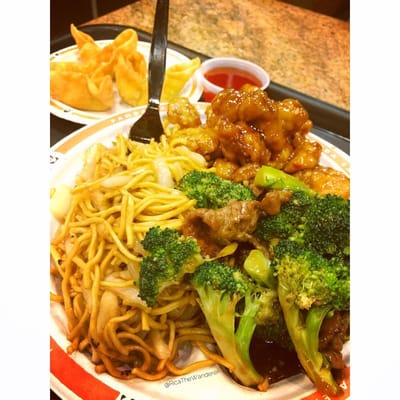curry: (263, 189, 350, 397), (190, 261, 276, 391), (138, 226, 204, 306), (176, 170, 255, 210)
salad: (129, 0, 169, 142)
sushi: (200, 57, 270, 103)
